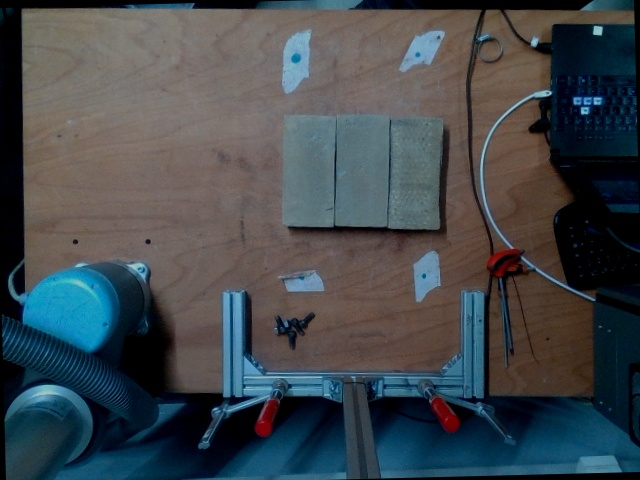brick: (337, 115, 388, 226), (284, 112, 334, 225), (391, 118, 439, 226)
